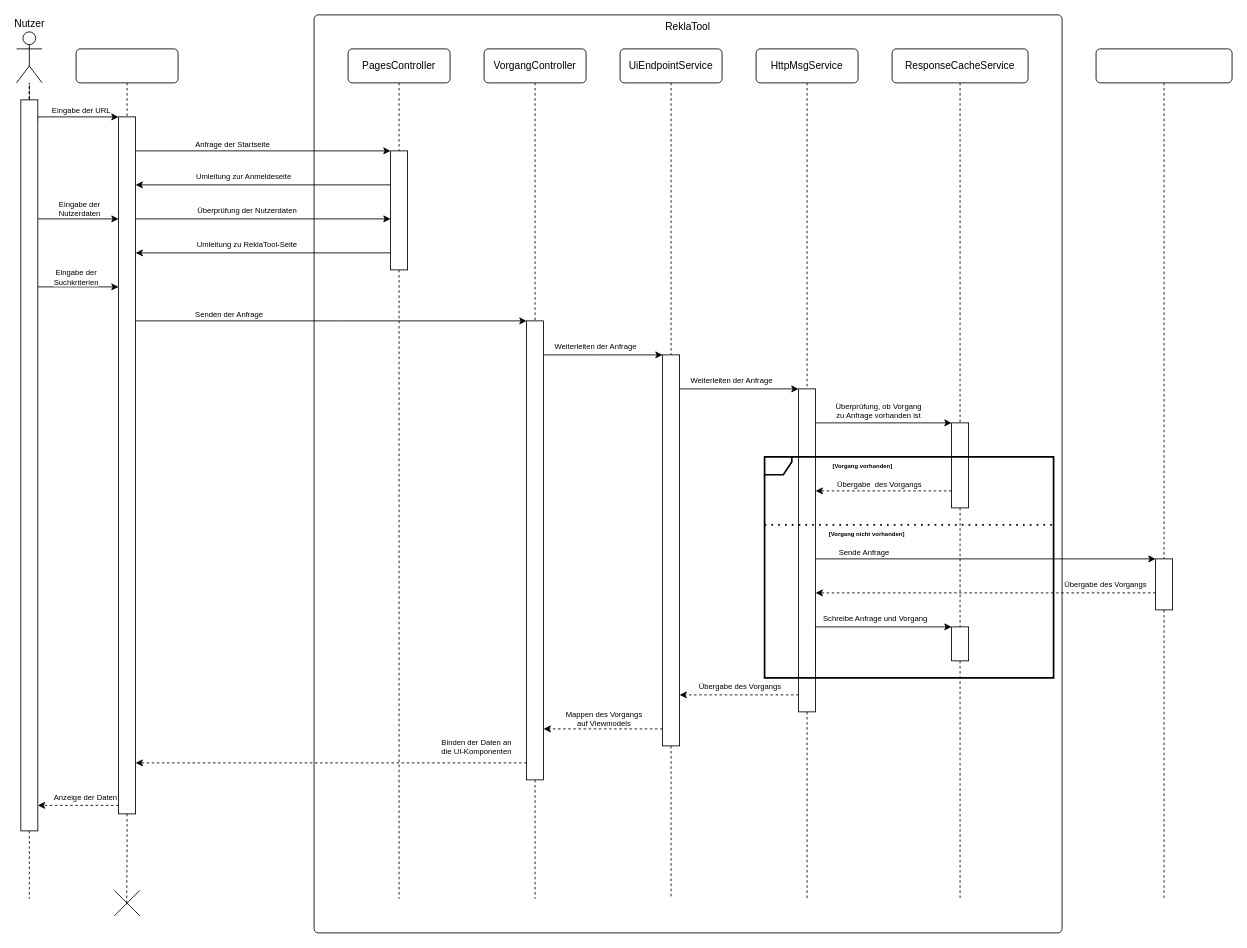
The diagram is 1247 pixels wide and 948 high, and some of its shapes have lost their labels. The box of each missing label's shape, as (x1, y1, x2, y2) in pixels:
alt: (763, 456, 1054, 678)
Datenbank-Webservice: (1095, 48, 1232, 83)
Web Browser mit Webseite: (75, 48, 178, 83)
